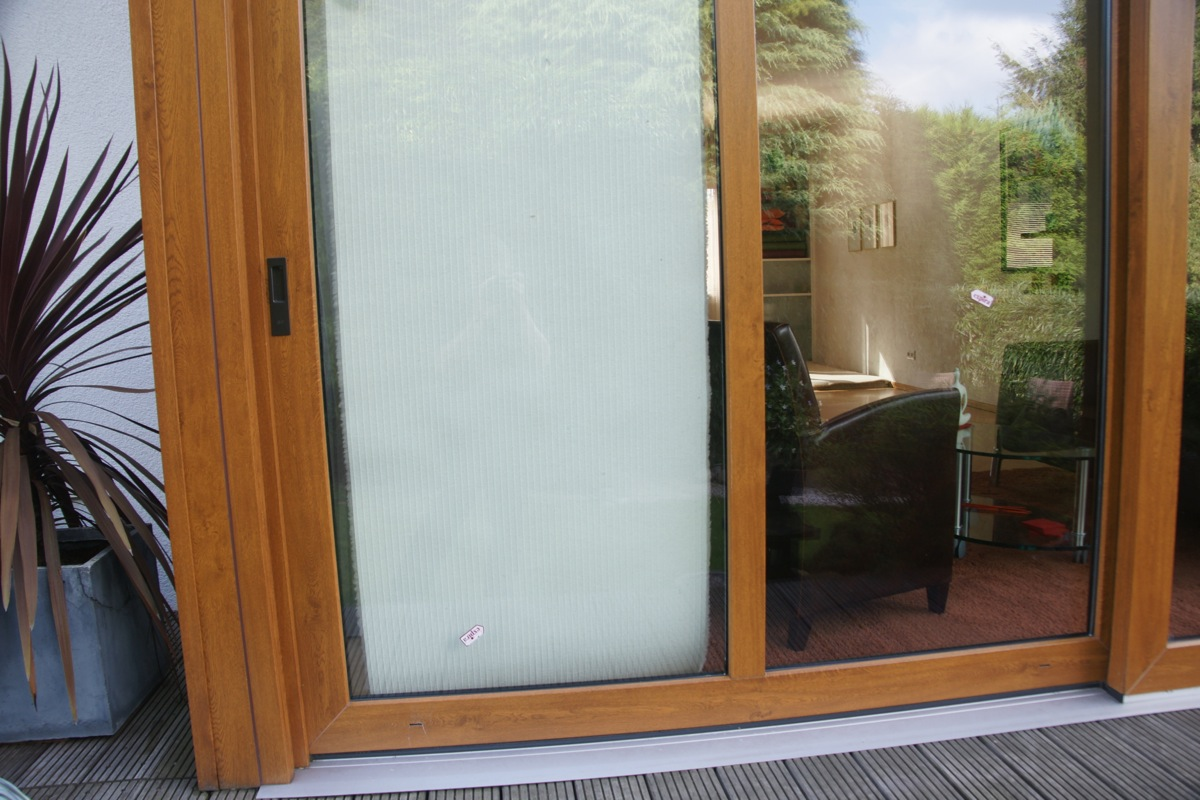windows: (224, 3, 1180, 719)
